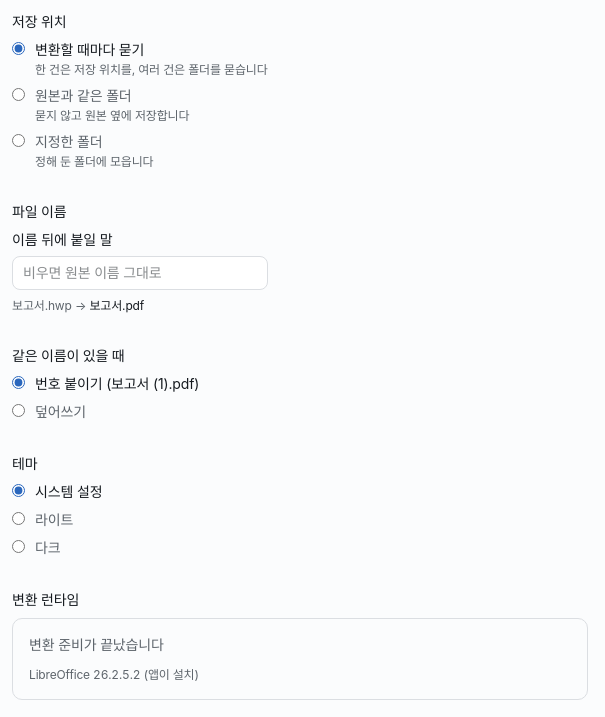
SettingsPanel › 이름 접미사를 입력하면 결과 이름 미리보기가 바뀐다
In the field labelled "이름 뒤에 붙일 말": (140, 273) [12, 256, 268, 290], type "_변환"
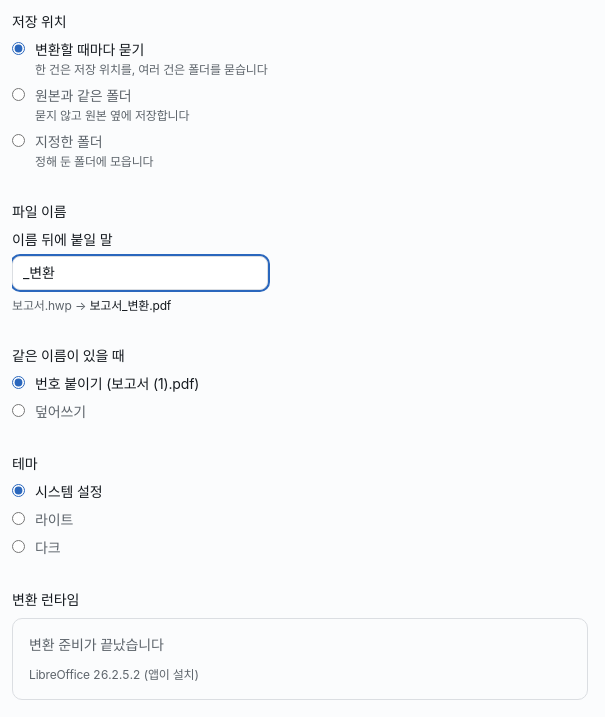
Expected: the text "보고서_변환.pdf" is shown, [90, 298, 171, 313]
